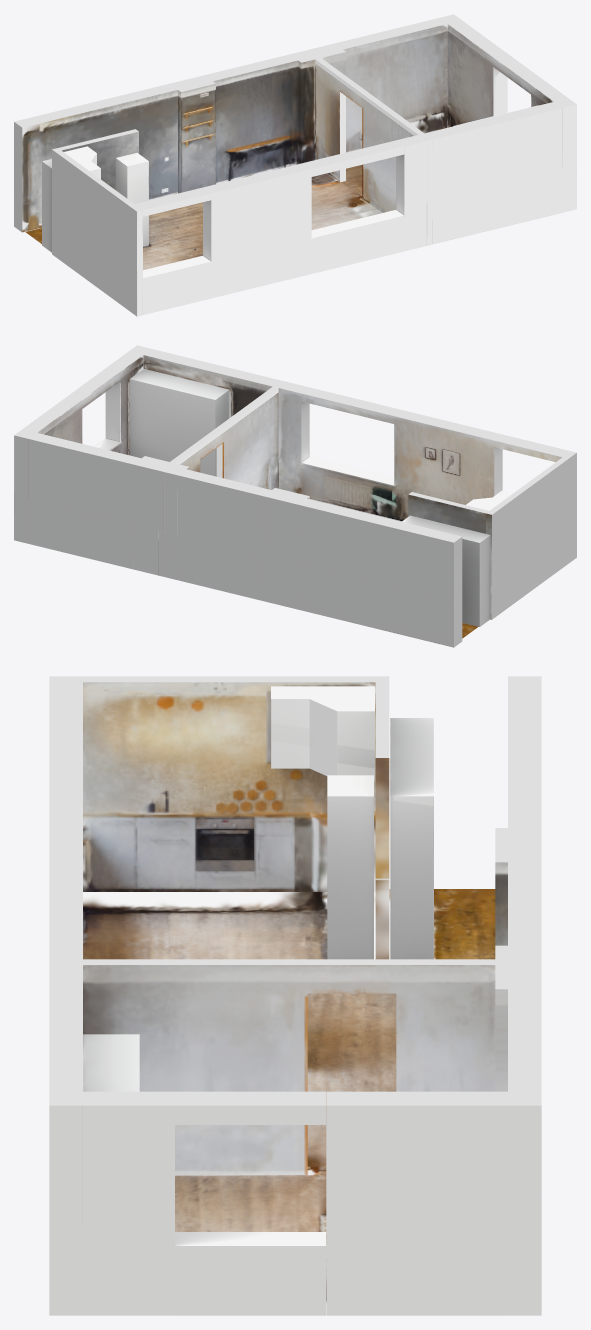
Rendered from Baked.glb.
3 renders of one model, top to bottom at view 1: azimuth 30°, elevation 25°; view 2: azimuth 150°, elevation 25°; view 3: azimuth 270°, elevation 25°, orthographic. The views are drawn at different scales.
Visible parts, largest first — view 1: block.041, block.060, block, block.148, block.089, floor.001, block.018, block.073, block.107, block.125, block.180, block.206 (+42 smaller); view 2: block.061, Wardrobe, block.168, block.088, block.003, block.072, block.018, block.195, block.179, block.125, block.036, block.205 (+37 smaller); view 3: floor.001, block.019, block.037, block.126, block.065, block.172, block.024, block.045, Closet, block.203, Shelves, floor (+30 smaller).
Boxes of the visible parts, x1,y1,x2,y2 form: block.041: [433, 108, 562, 199]; block.060: [22, 90, 177, 187]; block: [211, 169, 311, 253]; block.148: [433, 168, 562, 244]; block.089: [343, 24, 447, 108]; floor.001: [25, 173, 381, 269]; block.018: [52, 150, 136, 271]; block.073: [213, 60, 298, 140]; block.107: [211, 229, 311, 298]; block.125: [52, 210, 136, 316]; block.180: [216, 121, 298, 184]; block.206: [311, 216, 404, 273]; block.061: [298, 505, 453, 602]; Wardrobe: [129, 369, 229, 476]; block.168: [298, 565, 453, 647]; block.088: [28, 439, 133, 524]; block.003: [394, 416, 494, 498]; block.072: [178, 475, 263, 556]; block.018: [492, 453, 576, 574]; block.195: [28, 499, 133, 569]; block.179: [178, 536, 263, 600]; block.125: [492, 513, 576, 619]; block.036: [222, 388, 278, 480]; block.205: [301, 463, 393, 519]; floor.001: [83, 889, 495, 1171]; block.019: [83, 682, 375, 802]; block.037: [83, 965, 307, 1085]; block.126: [83, 802, 375, 891]; block.065: [326, 1105, 507, 1226]; block.172: [326, 1226, 507, 1315]; block.024: [396, 965, 495, 1085]; block.045: [83, 1105, 174, 1226]; Closet: [390, 718, 433, 959]; block.203: [175, 1246, 325, 1315]; Shelves: [271, 686, 374, 780]; floor: [175, 1172, 326, 1308].
Size of what is drawn, in the model's own units: 10.31 by 2.35 by 5.
4 materials, 3 textured.
